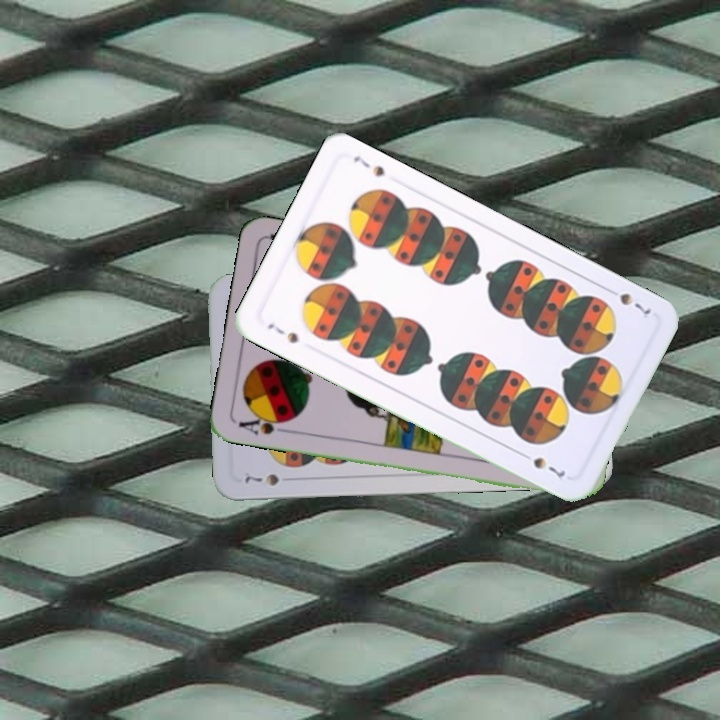S7: (602, 283, 657, 320), (263, 319, 301, 347), (240, 469, 282, 488)
SA: (234, 410, 294, 438)
